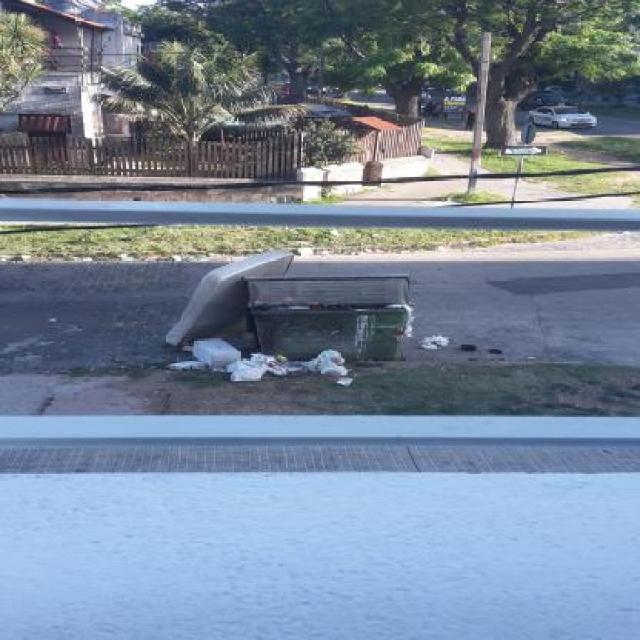garbage: (174, 334, 372, 382), (249, 274, 409, 327), (188, 259, 241, 333), (417, 332, 504, 356)
